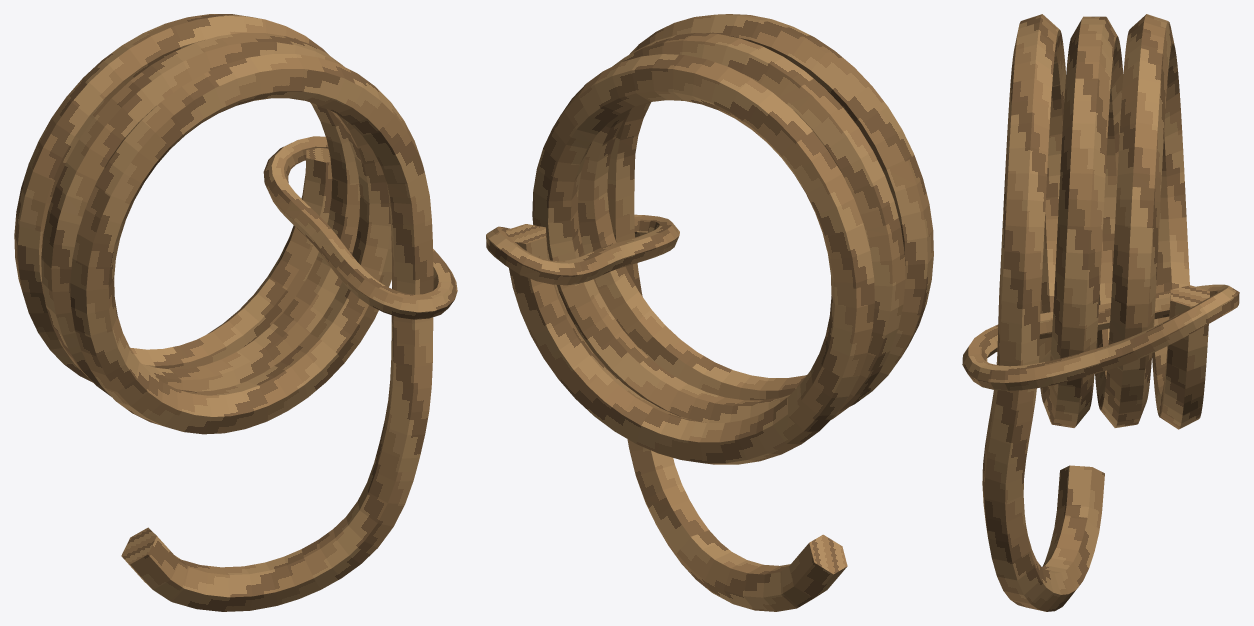
The model's file is lead.obj.
The picture shows the model from 3 angles, left to right: view 1: azimuth 30°, elevation 25°; view 2: azimuth 150°, elevation 25°; view 3: azimuth 270°, elevation 25°; orthographic projection. The views are drawn at different scales.
Bounding box in the file's own units: 0.4669 × 0.6805 × 0.3049.
